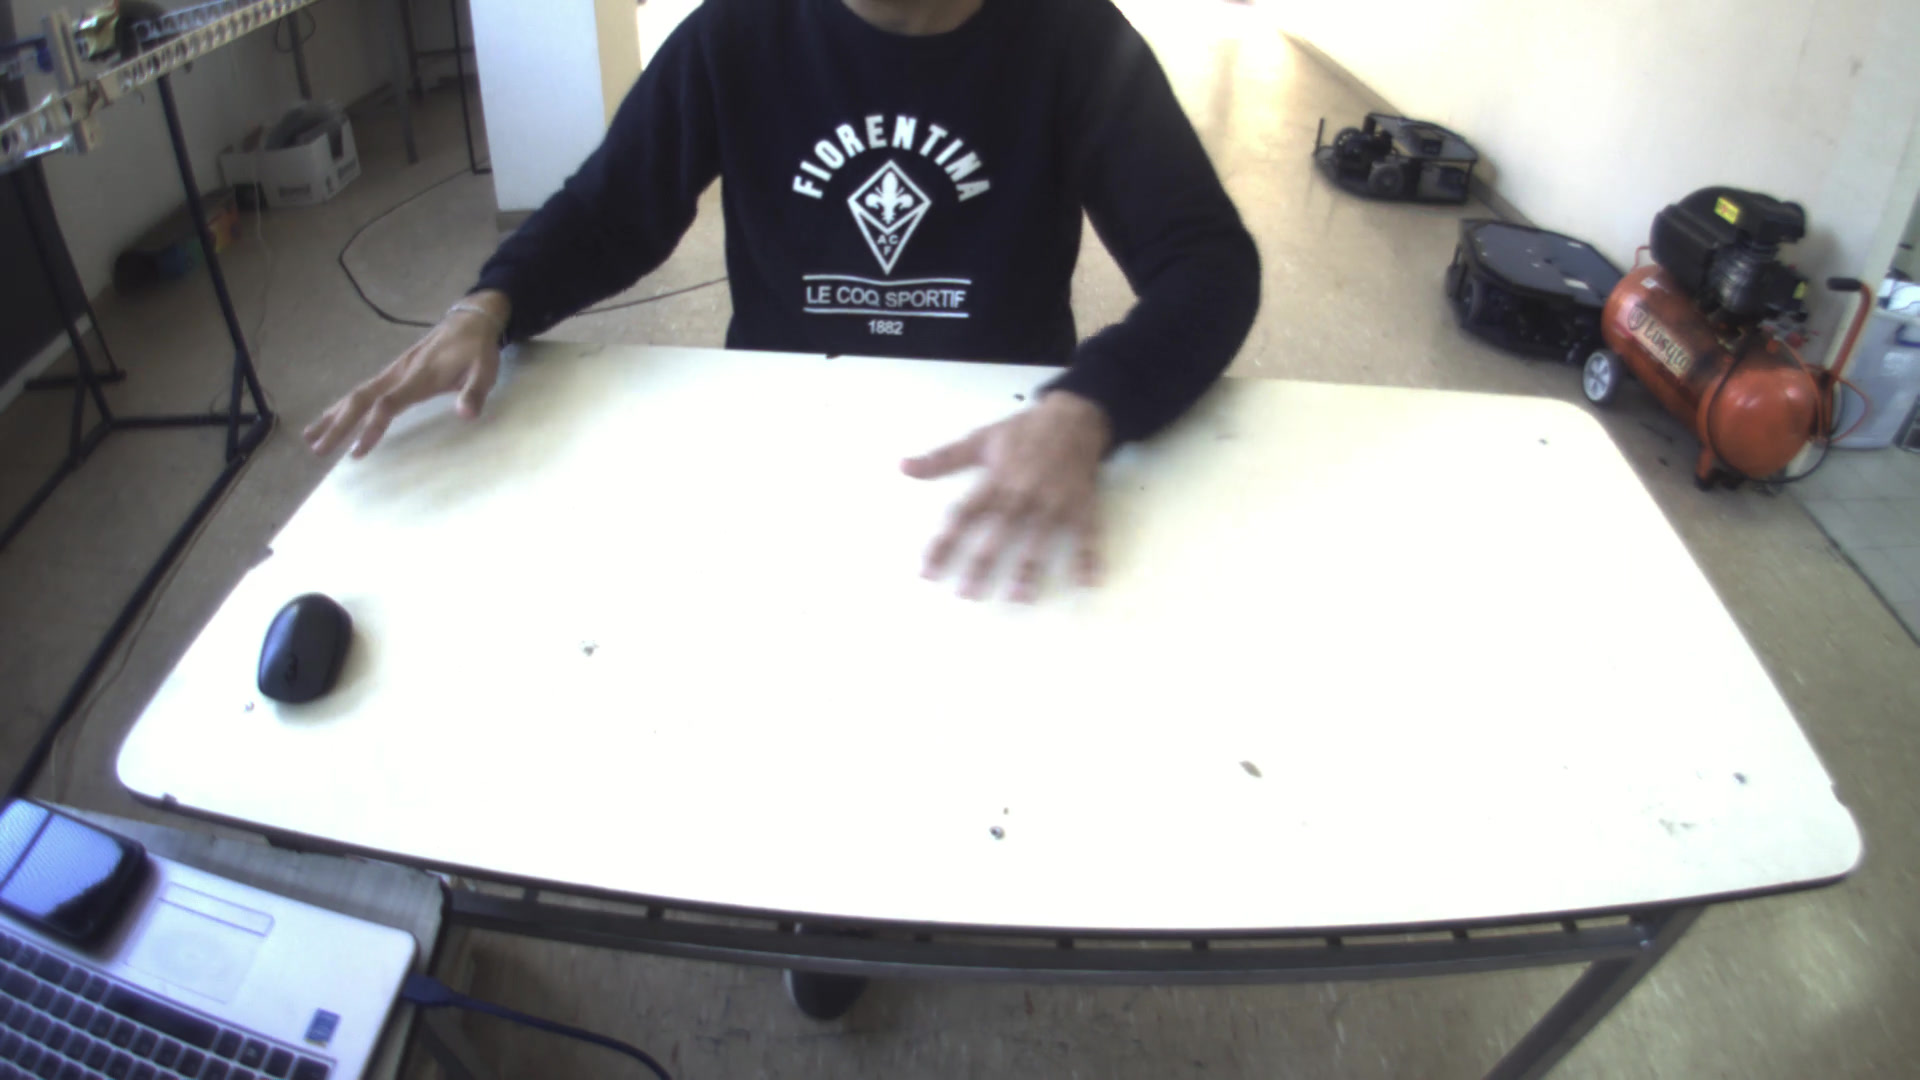hand: (887, 377, 1127, 615), (280, 286, 512, 465)
